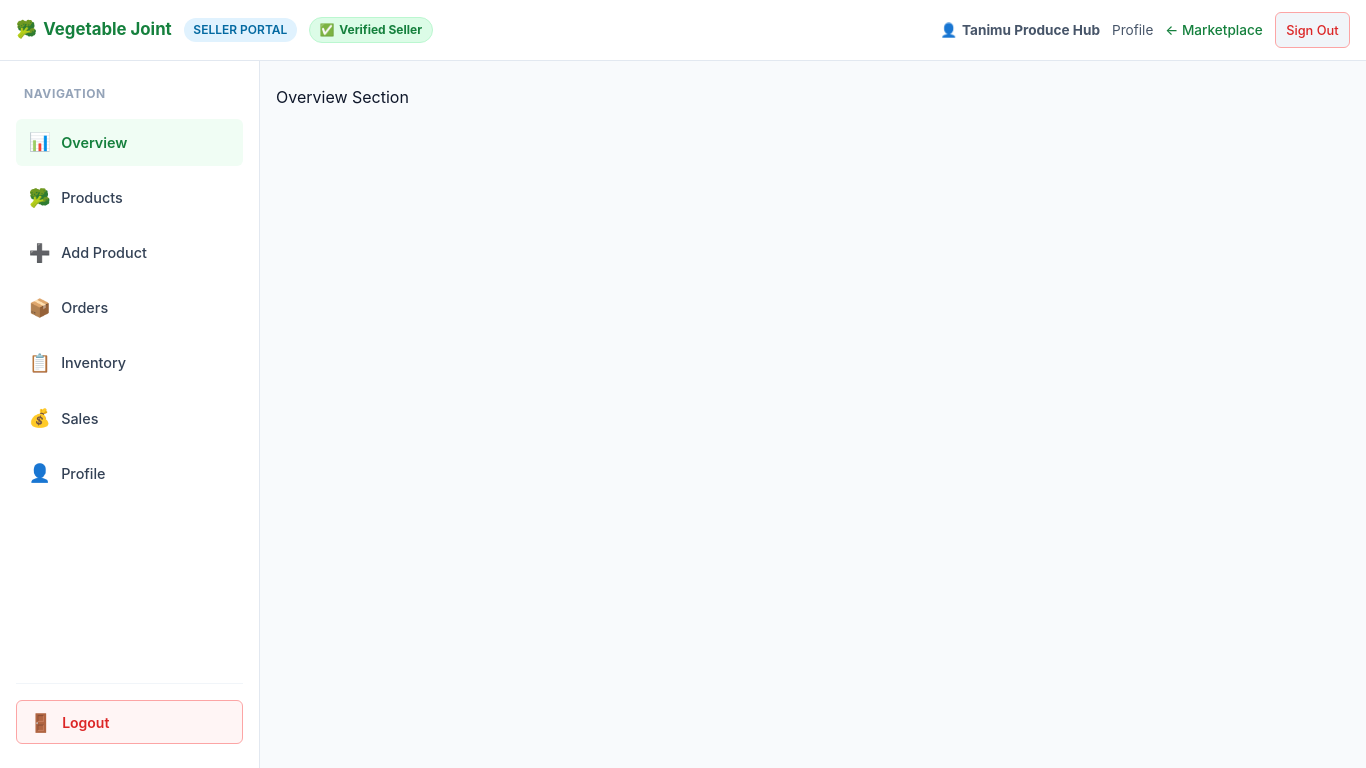
FE-080: Seller Dashboard Layout and Navigation (SEL-01, Figma Section 13) › 2. Navigation Between Sections › navigates from Overview to Products, Orders, and Profile when sidebar links are clicked
The width and height of the screenshot is (1366, 768).
Expected: the text "Overview Section" is shown, [276,87,409,107]
Note: Click Products
Click the link with test id "sidebar-nav-products": (76, 197) [29,187,123,208]
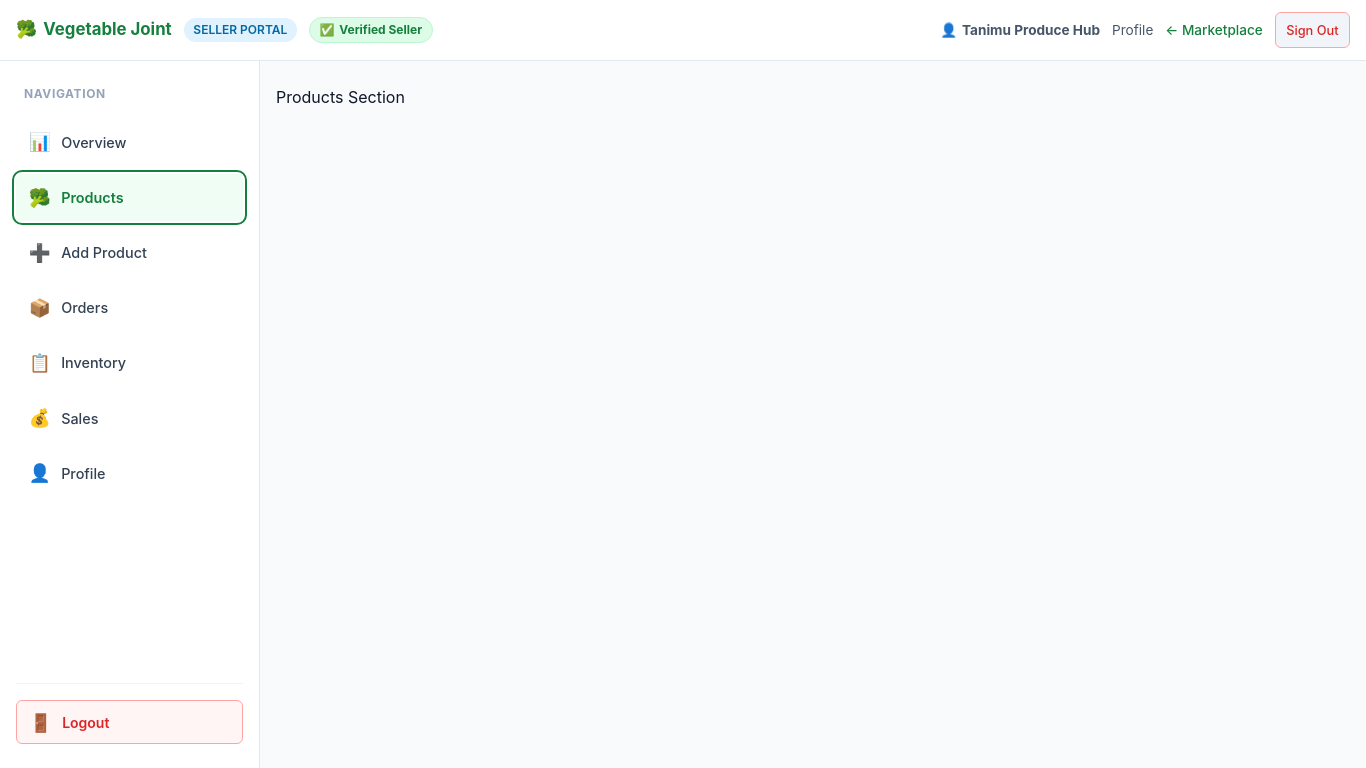
Now the text "Products Section" is shown, box [276,87,405,107]
Note: Click Orders
Click the link with test id "sidebar-nav-orders": (68, 307) [29,297,108,318]
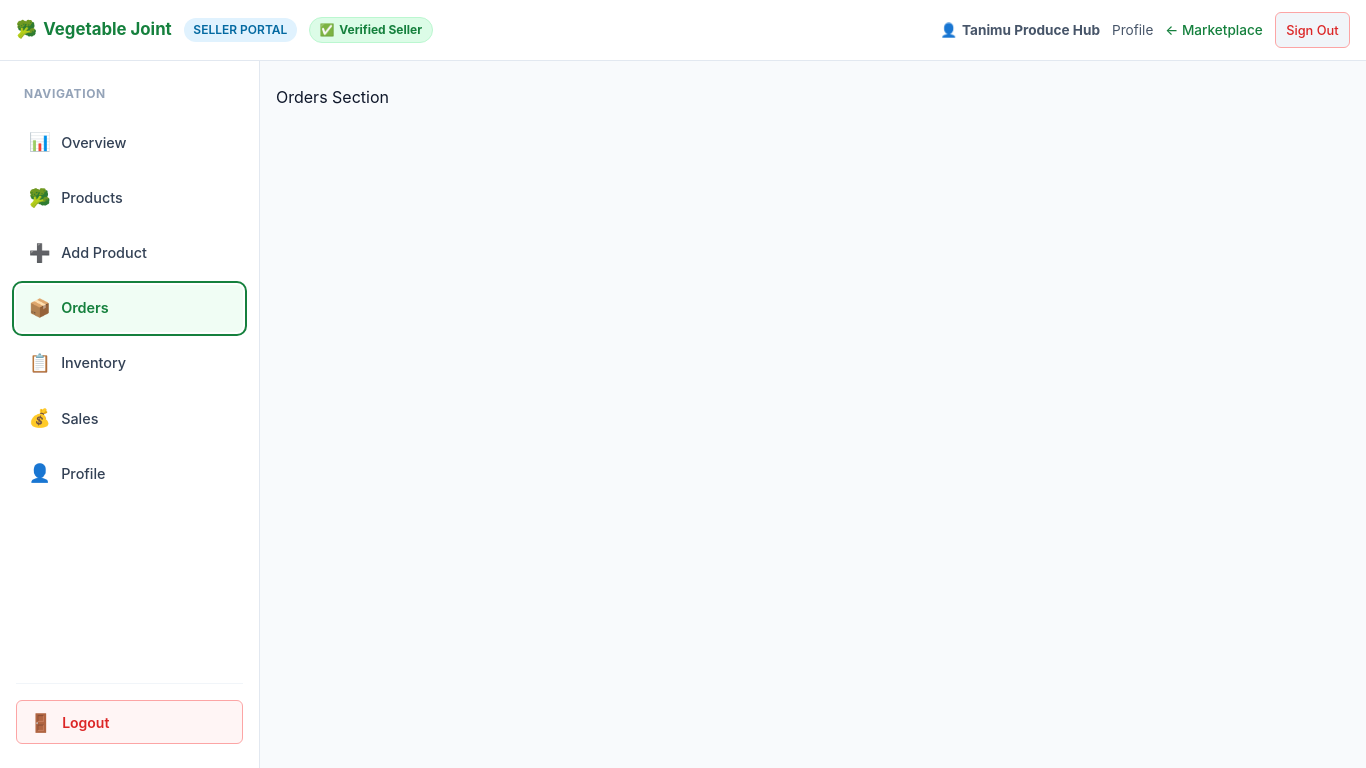
Now the text "Orders Section" is shown, box [276,87,389,107]
Note: Click Profile
Click the link with test id "sidebar-nav-profile": (67, 473) [29,462,106,483]
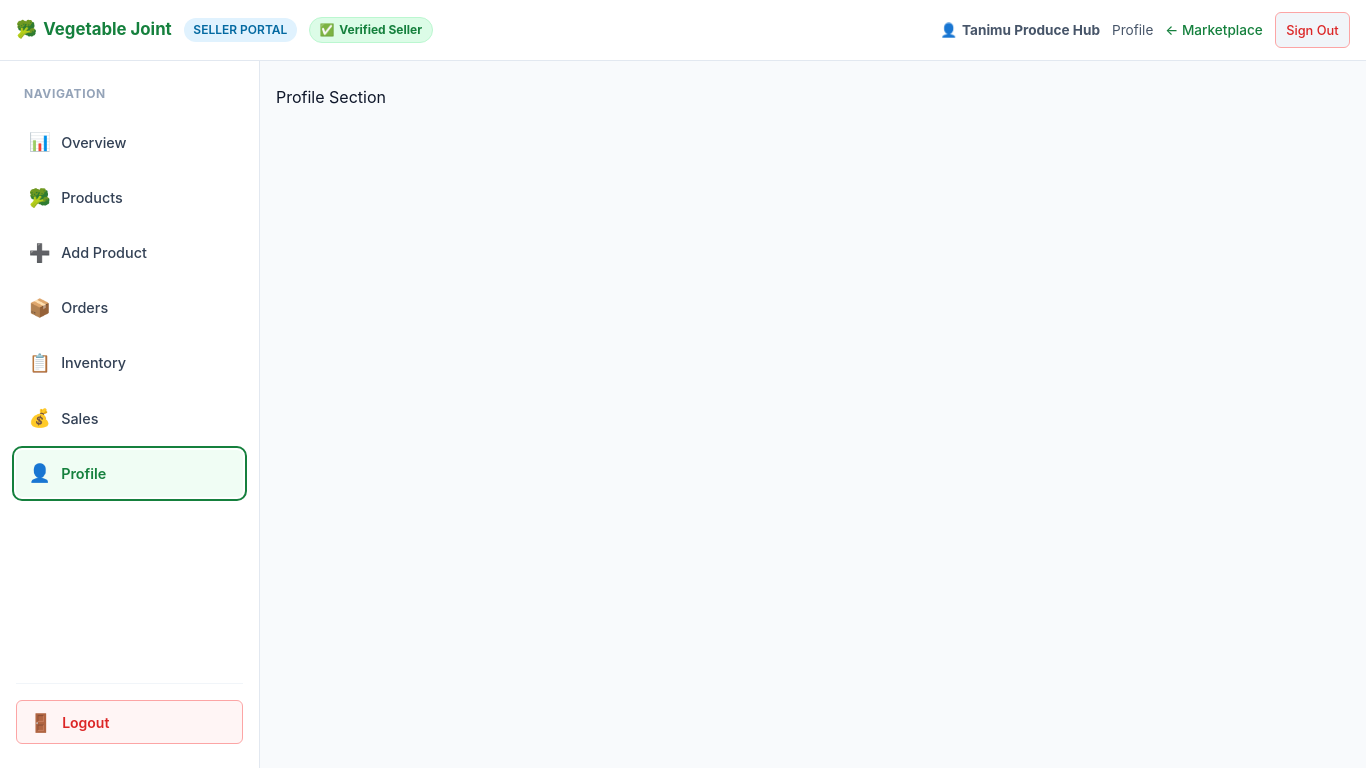
Now the text "Profile Section" is shown, box [276,87,386,107]
